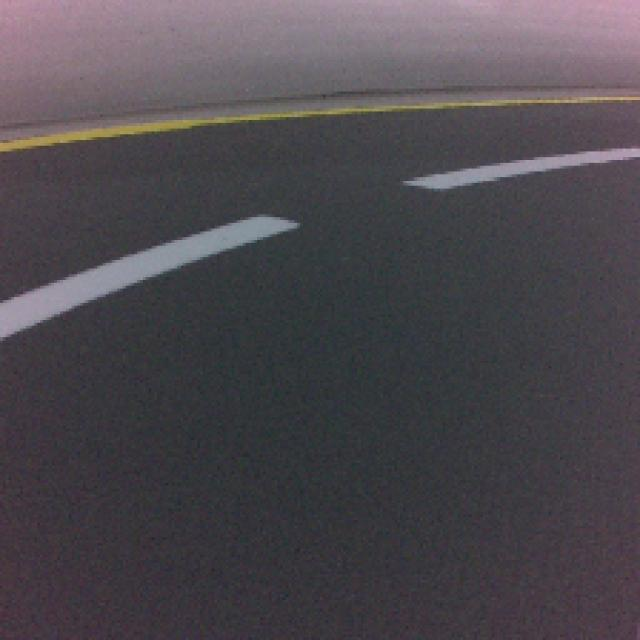Road: (2, 303, 640, 635)
